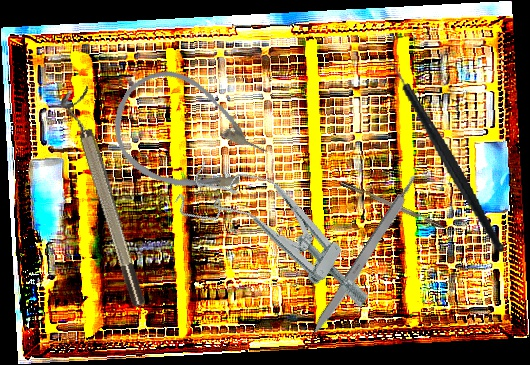Cannula: (95, 54, 282, 221)
Chopper: (374, 39, 505, 268), (340, 175, 459, 236)
Fixation Ring: (57, 85, 150, 312)
Scalpel Handle: (306, 171, 425, 342)
Speculum: (170, 142, 394, 322)
